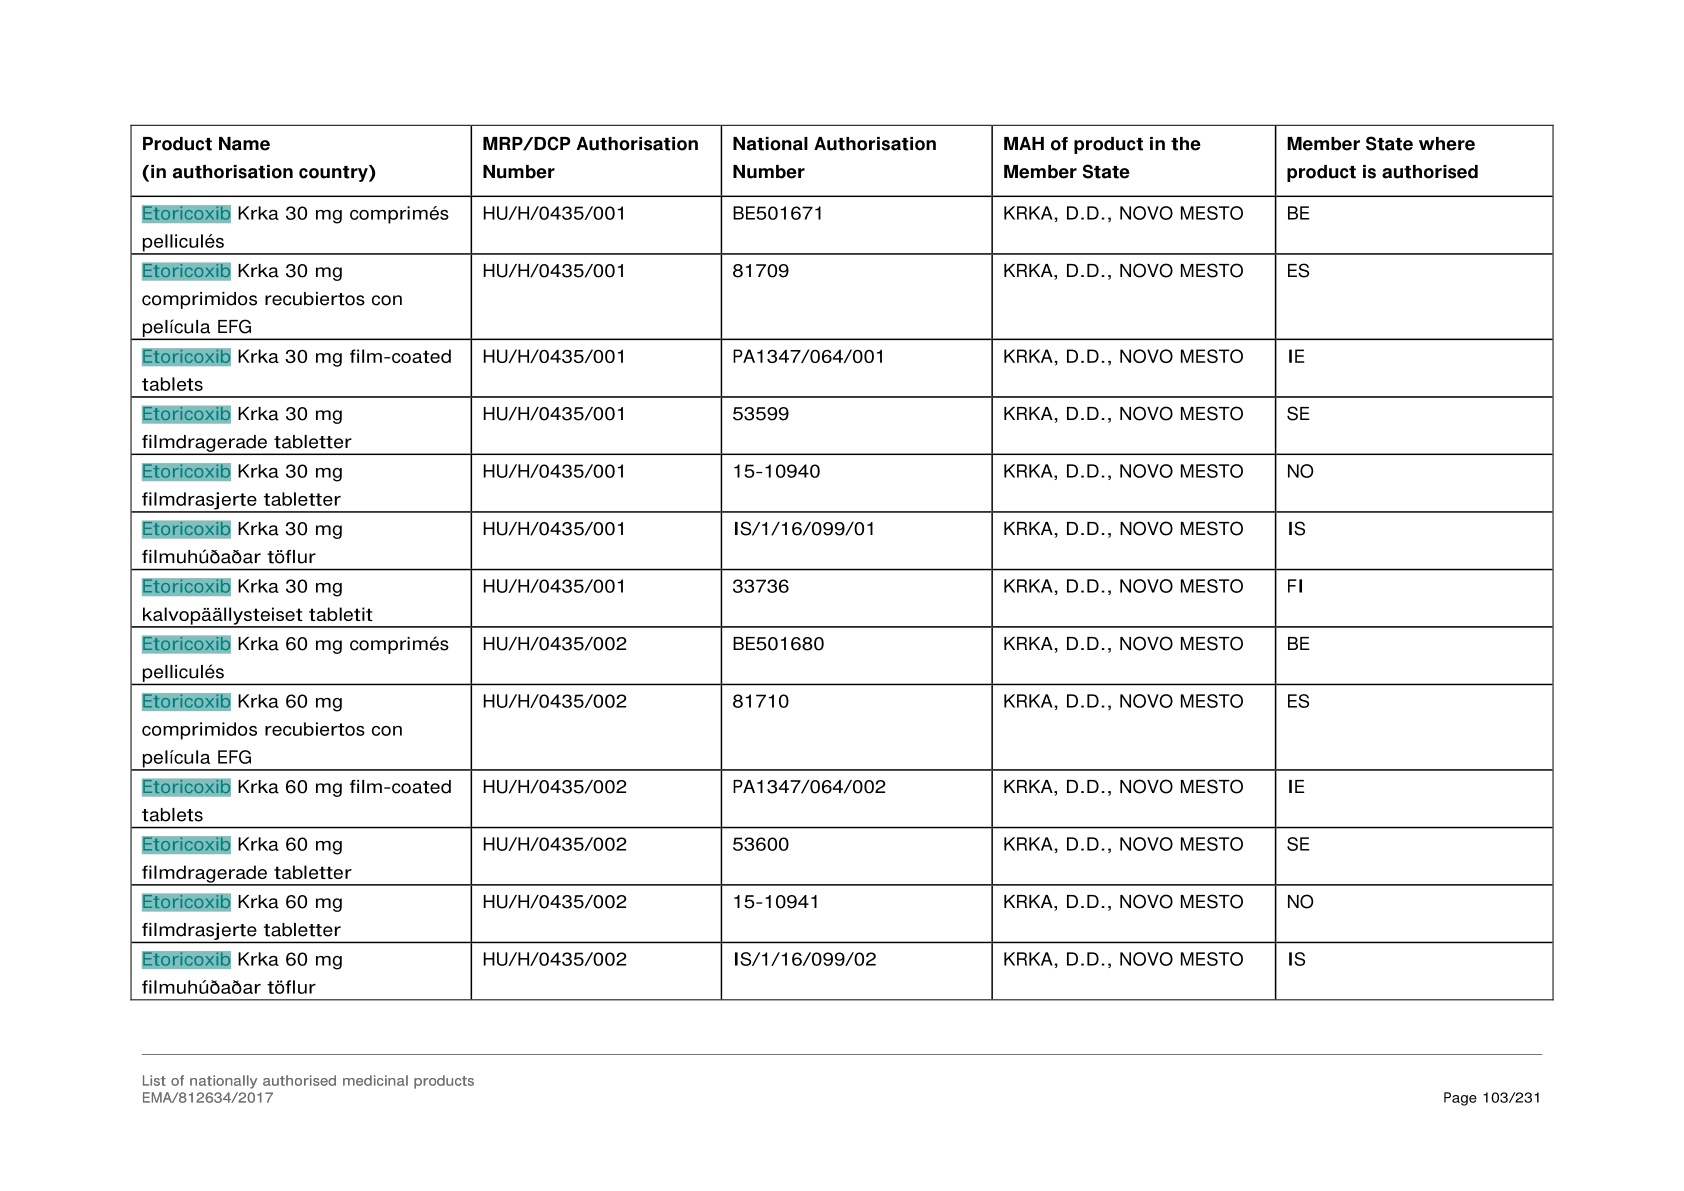full_lined: (129, 122, 1554, 1002)
